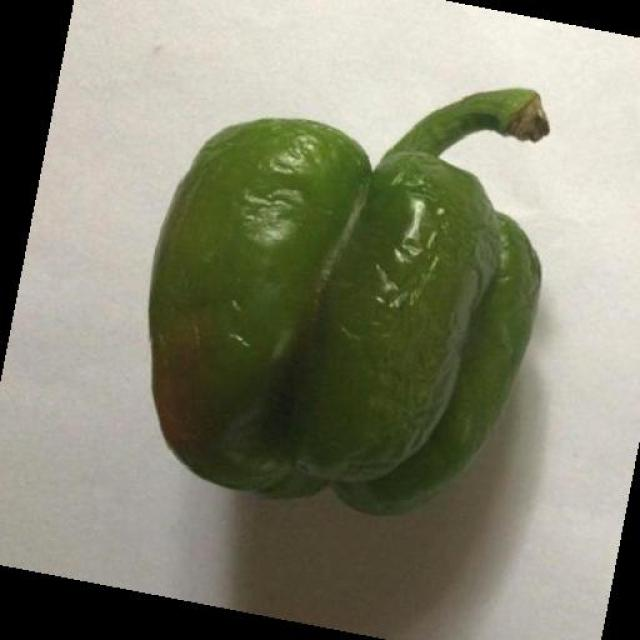Stale_Capsicum: (159, 110, 529, 548)
